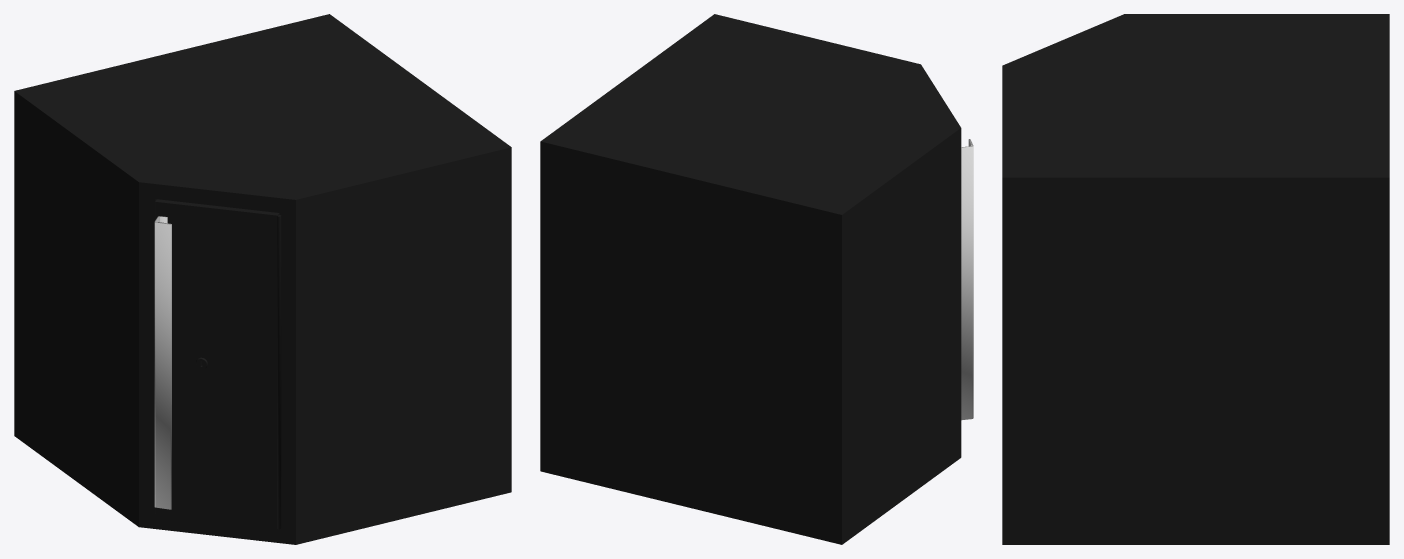
File: cornerWallMountLeft.glb
3 views of the same model, side by side, from view 1: azimuth 30°, elevation 25°; view 2: azimuth 150°, elevation 25°; view 3: azimuth 270°, elevation 25° (orthographic). The views are drawn at different scales.
Parts seen in each view (by area): view 1: shellFp, doors, handlesFp, hingeFp; view 2: shellFp, handlesFp; view 3: shellFp.
Boxes of the visible parts, x1,y1,x2,y2 form: shellFp: (14, 14, 511, 544); doors: (155, 199, 279, 528); handlesFp: (154, 216, 171, 509); hingeFp: (277, 215, 281, 529); shellFp: (540, 14, 961, 544); handlesFp: (961, 139, 973, 420); shellFp: (1002, 14, 1389, 544).
Bounding box in the file's own units: 0.5588 × 0.5842 × 0.5588.
3 materials, 1 textured.
